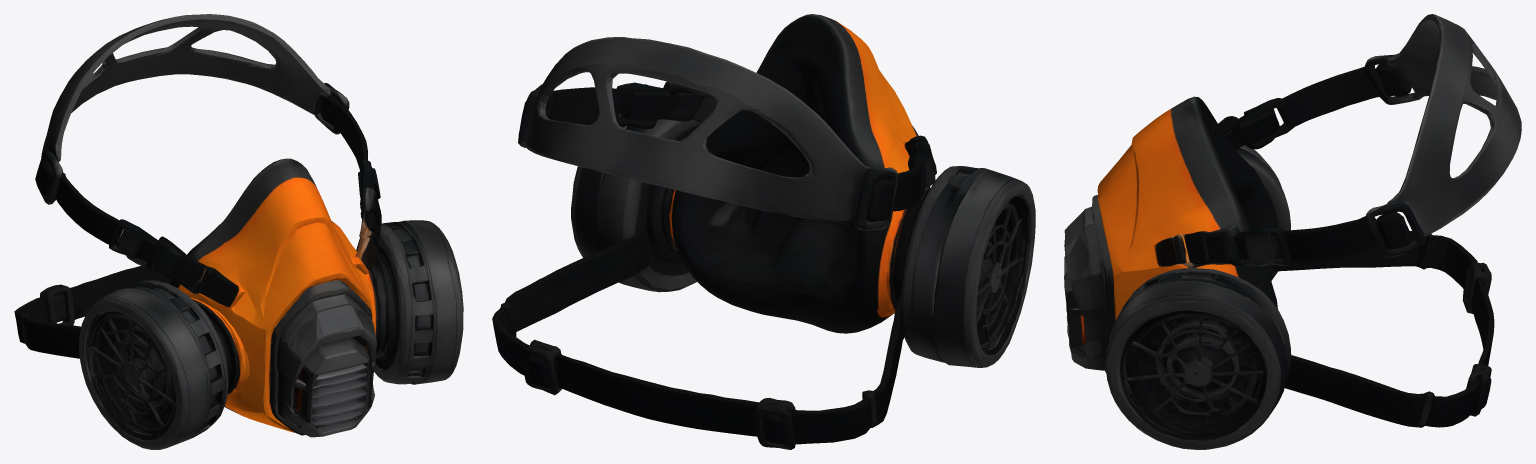
Rendered from Respirator.fbx.
3 views of the same model, side by side, from view 1: azimuth 30°, elevation 25°; view 2: azimuth 150°, elevation 25°; view 3: azimuth 270°, elevation 25° (orthographic). The views are drawn at different scales.
Parts seen in each view (by area): view 1: Mesh.002; view 2: Mesh.002; view 3: Mesh.002.
Boxes of the visible parts, bbox=[...] form: Mesh.002: bbox=[14, 14, 463, 449]; Mesh.002: bbox=[492, 14, 1035, 449]; Mesh.002: bbox=[1064, 14, 1521, 449].
Size of the model in its own units: 0.6872 by 0.6073 by 0.7499.
1 material, 1 textured.
